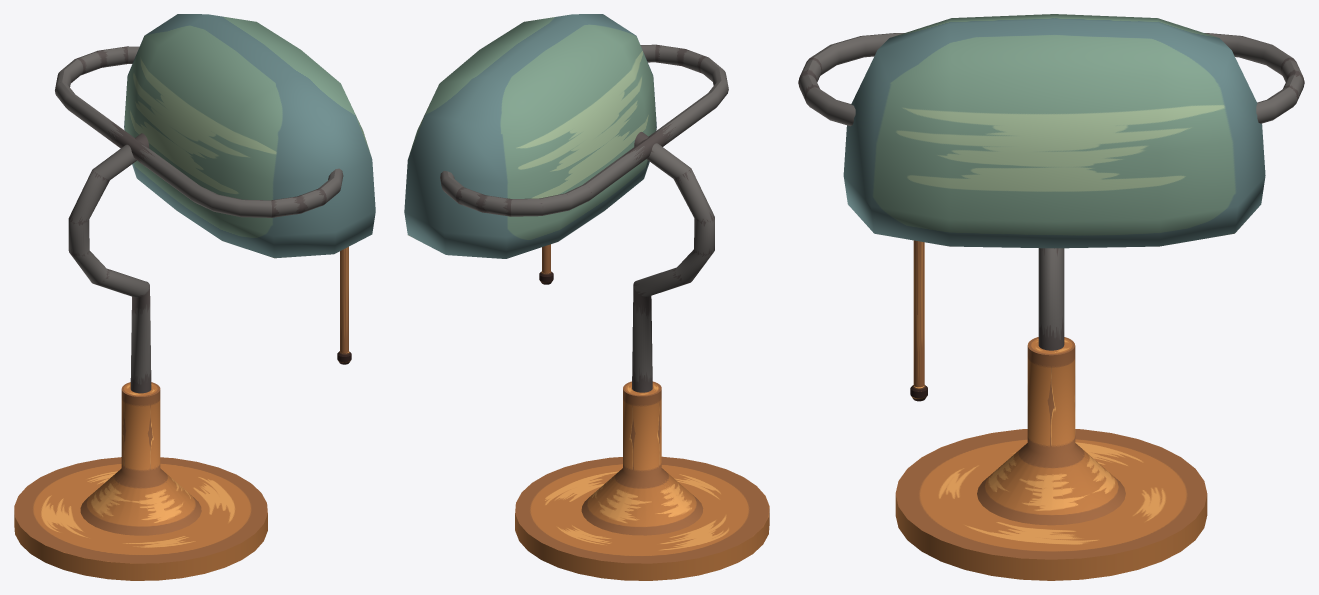
Rendered from Lamp.fbx.
The picture shows the model from 3 angles, left to right: view 1: azimuth 30°, elevation 25°; view 2: azimuth 150°, elevation 25°; view 3: azimuth 270°, elevation 25°; orthographic projection. The views are drawn at different scales.
Parts seen in each view (by area): view 1: Lamp_Head, Lamp_Stand, Lamp_Switch; view 2: Lamp_Head, Lamp_Stand; view 3: Lamp_Head, Lamp_Stand, Lamp_Switch.
Part boxes in pixels (left/top/right/bottom): Lamp_Head: left=124, top=14, right=375, bottom=258; Lamp_Stand: left=14, top=46, right=343, bottom=580; Lamp_Switch: left=337, top=247, right=351, bottom=364; Lamp_Head: left=404, top=14, right=656, bottom=258; Lamp_Stand: left=440, top=44, right=769, bottom=580; Lamp_Head: left=843, top=14, right=1265, bottom=248; Lamp_Stand: left=798, top=33, right=1304, bottom=580; Lamp_Switch: left=910, top=240, right=927, bottom=401.
Size of the model in its own units: 37.24 by 54.81 by 44.86.
Materials: 1 (1 with a texture image).
